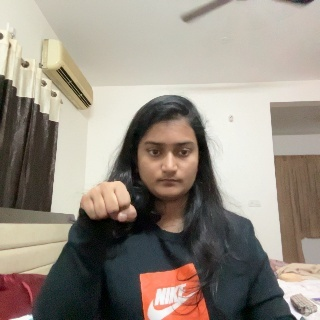Face: (138, 108, 201, 200)
Yes: (74, 180, 142, 244)
